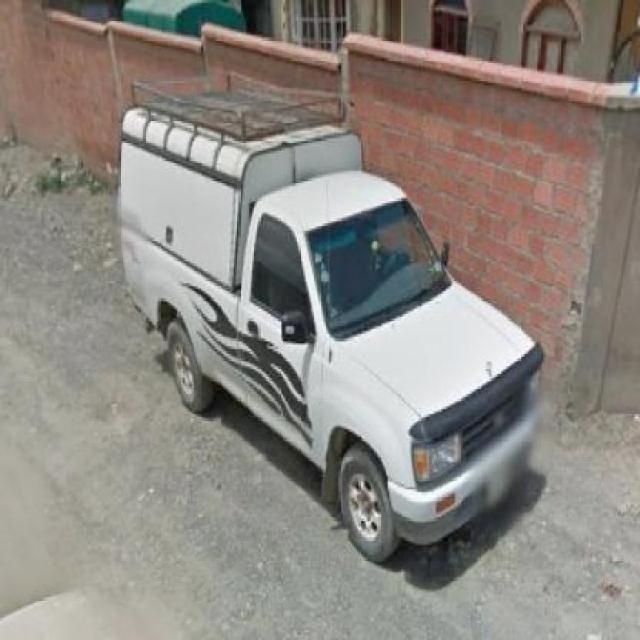car: (114, 83, 551, 534)
